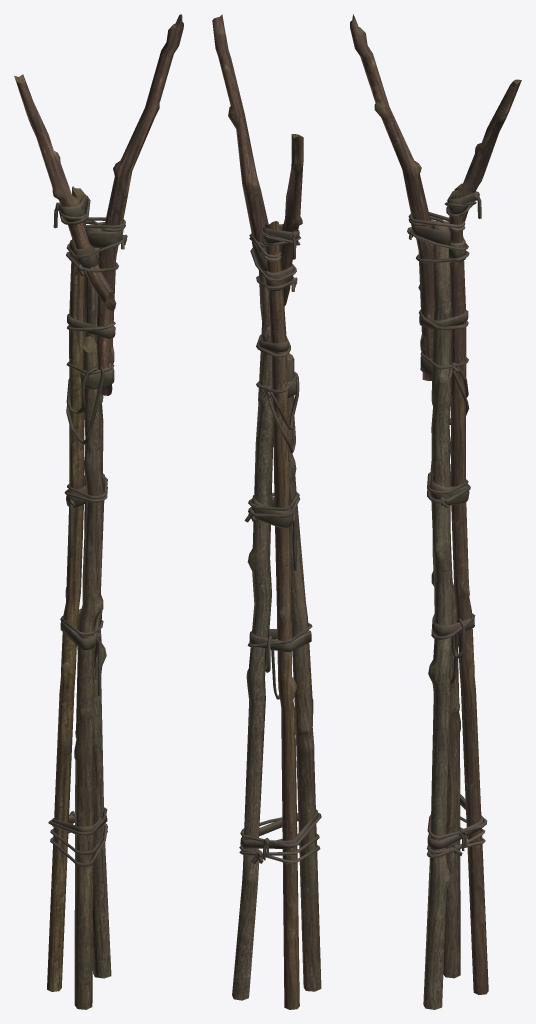
File: GEN_PRO_VShape_DockPillar_01A_LOD0-transformed.glb
The picture shows the model from 3 angles, left to right: view 1: azimuth 90°, elevation 25°; view 2: azimuth 210°, elevation 25°; view 3: azimuth 270°, elevation 25°; orthographic projection. The views are drawn at different scales.
Visible parts, largest first — view 1: default; view 2: default; view 3: default.
Boxes of the visible parts, bbox=[...] form: default: bbox=[14, 14, 183, 1009]; default: bbox=[212, 14, 321, 1009]; default: bbox=[350, 14, 521, 1009].
Bounding box in the file's own units: 0.9671 × 11.12 × 1.76.
2 materials, 2 textured.
